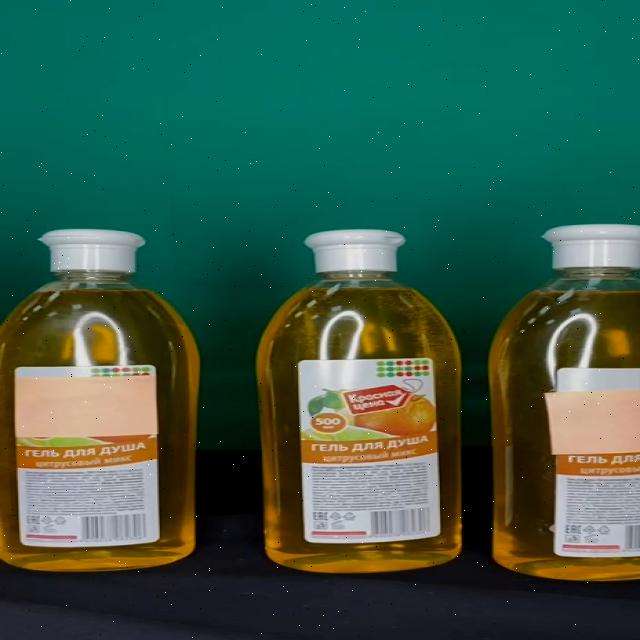Bottle: (255, 230, 460, 573), (0, 230, 199, 571), (491, 224, 640, 581)
Cap: (39, 230, 144, 274), (302, 230, 405, 272), (540, 225, 640, 268)
